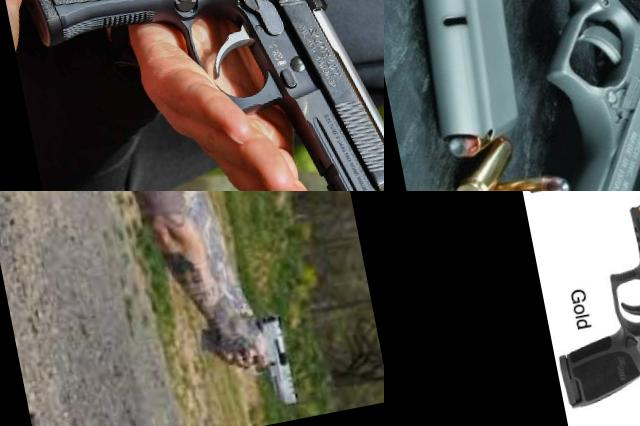handgun: (0, 0, 384, 191), (417, 0, 640, 191), (528, 191, 640, 414), (192, 306, 304, 425), (516, 191, 640, 254), (569, 401, 640, 426)
